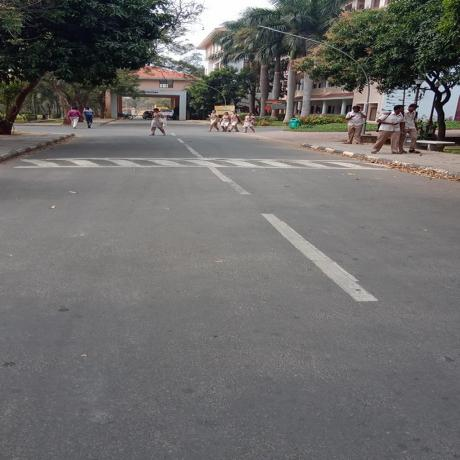Speed Bump: (15, 156, 385, 168)
